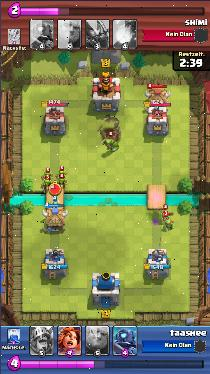EBrawler: (102, 138, 118, 152)
EGoblin: (42, 168, 52, 180), (56, 166, 66, 178), (41, 178, 51, 190), (57, 174, 66, 187)
EGoblinHut: (145, 84, 170, 106)
EKingTower: (94, 72, 119, 111)
ESpearGoblin: (160, 209, 170, 222), (164, 218, 173, 230)
EnemyPrincessTower: (44, 100, 67, 134), (146, 104, 170, 134)
OGoblinHut: (45, 207, 67, 231)
OwnKingTower: (93, 273, 118, 307)
OwnPrincessTower: (41, 249, 67, 278), (144, 250, 170, 276)
